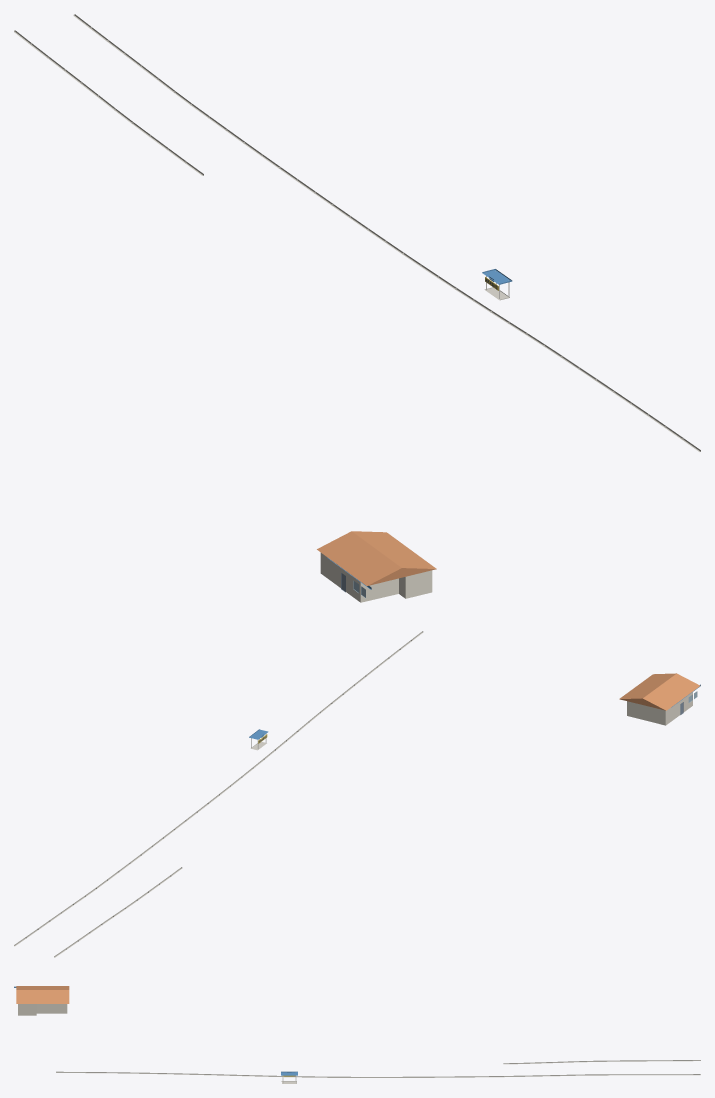
Rendered from nw_rd_arashi.glb.
The picture shows the model from 3 angles, top to bottom: view 1: azimuth 30°, elevation 25°; view 2: azimuth 150°, elevation 25°; view 3: azimuth 270°, elevation 25°; orthographic projection. The views are drawn at different scales.
Parts seen in each view (by area): view 1: nw_rd_arashi_lod0; view 2: nw_rd_arashi_lod0; view 3: nw_rd_arashi_lod0.
Boxes of the visible parts, box(x1,y1,x2,y2) form: nw_rd_arashi_lod0: box(14, 14, 700, 602); nw_rd_arashi_lod0: box(14, 631, 700, 957); nw_rd_arashi_lod0: box(14, 986, 700, 1083).
Size of what is drawn, in the model's own units: 53.81 by 6.18 by 153.
